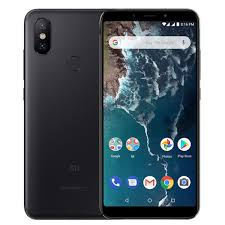mi: (102, 2, 202, 222), (21, 1, 107, 221)
